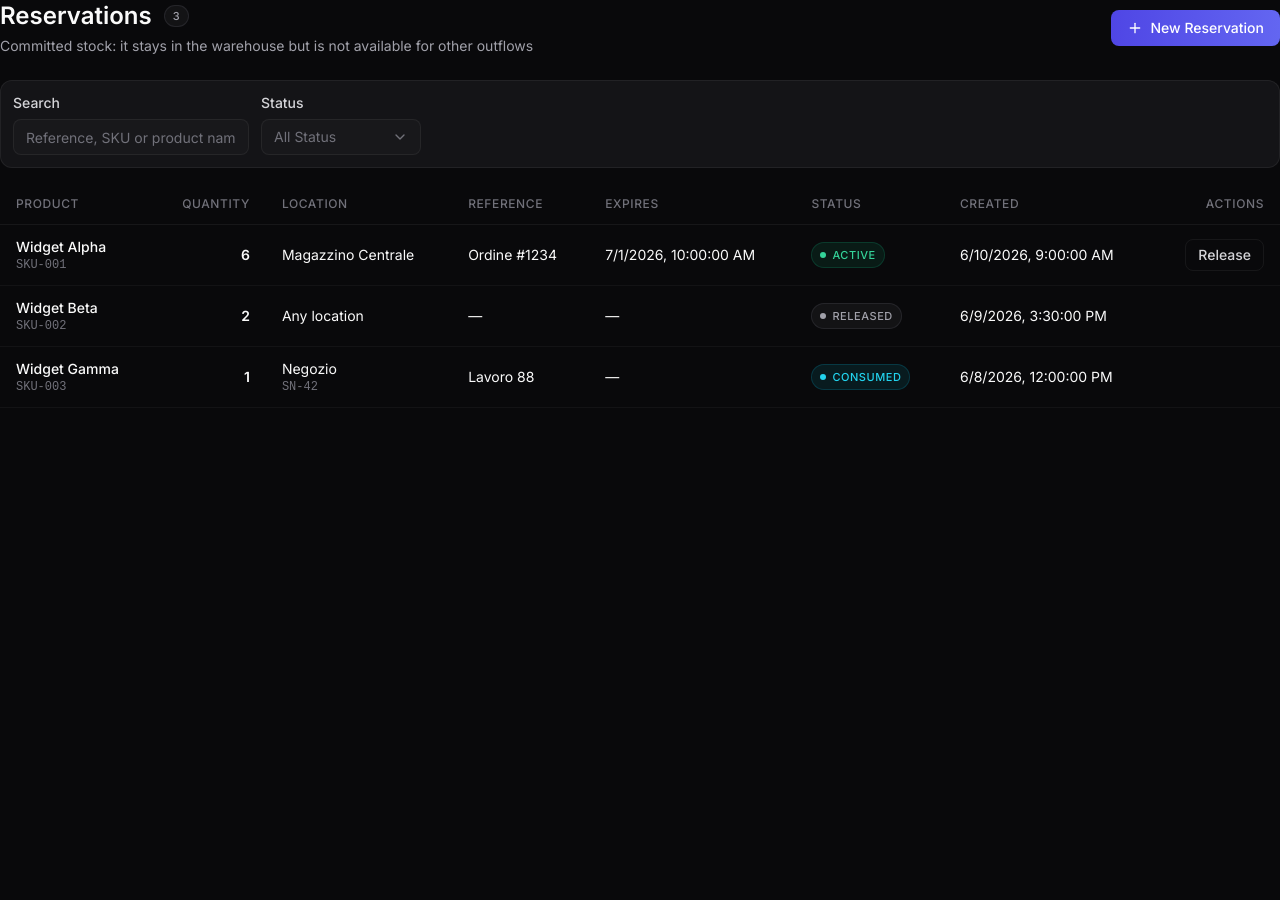
Test: ReservationList release flow › confirming the dialog POSTs to the release endpoint, refetches and toasts
Click the button with test id "release-res-001": [1225, 255] box [1185,239,1264,271]
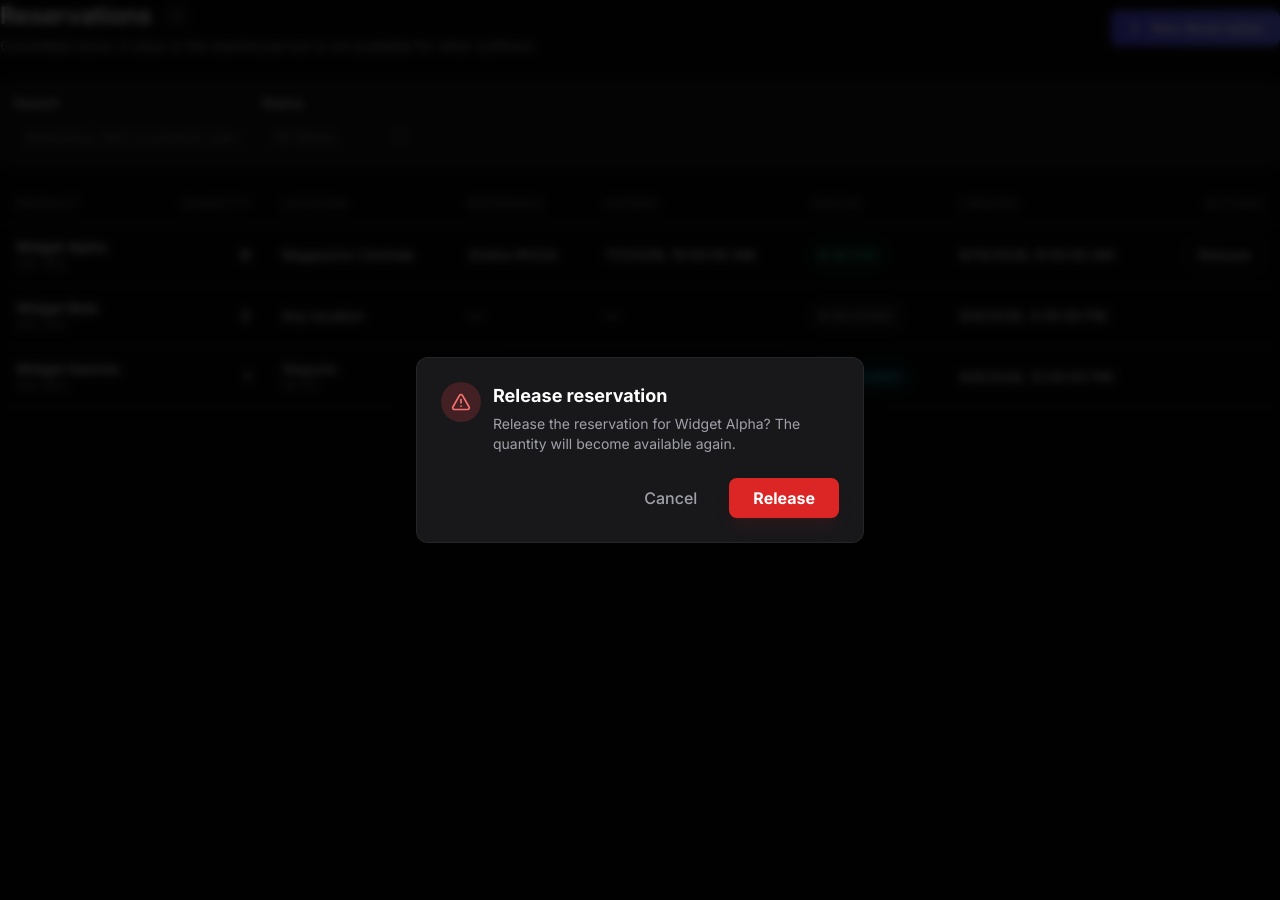
Check: the element with test id "confirm-dialog" is shown, box [416,357,864,543]
Click the button with test id "confirm-dialog-confirm": [784, 498] box [729,478,839,518]
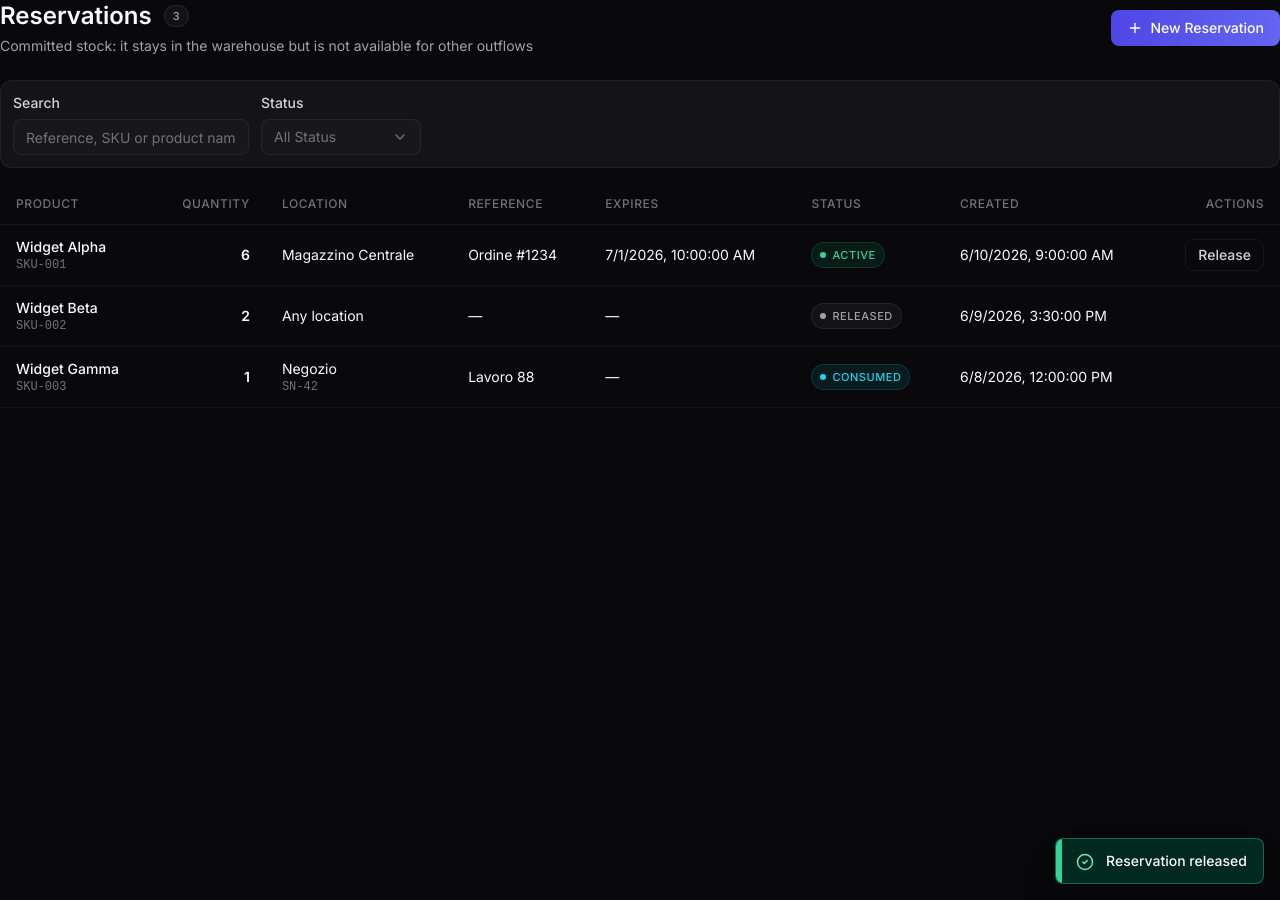
Check: the button with test id "toast" reads "Reservation released", box [1055,838,1264,884]
